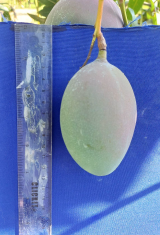Mango-sano: (60, 51, 136, 175)
